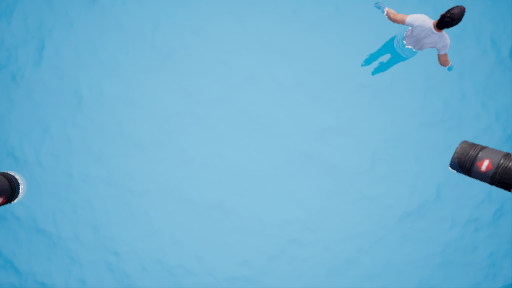person: (369, 3, 468, 83)
